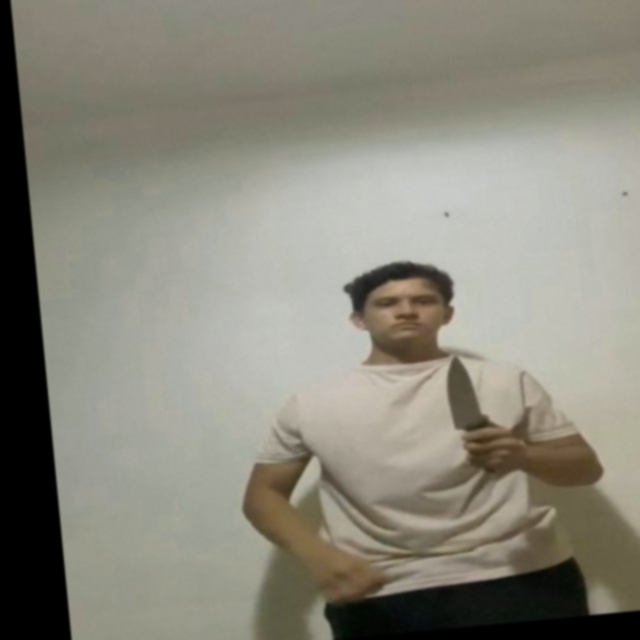Sharp-Object: (441, 351, 487, 430)
